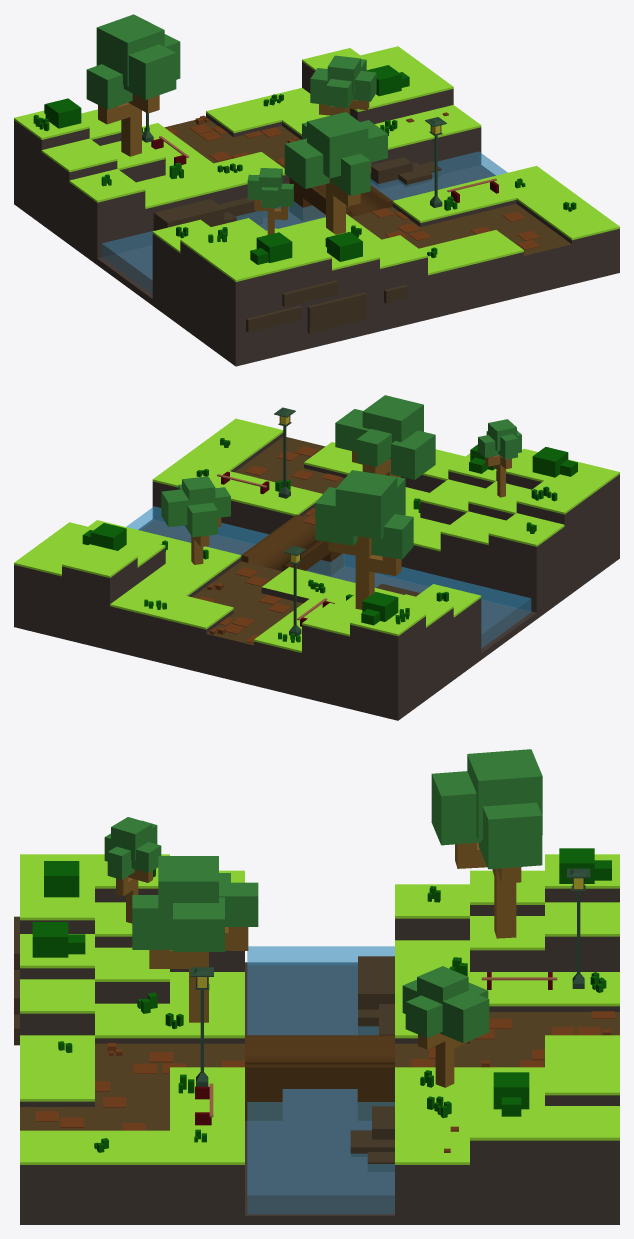
The model's file is park.glb.
3 renders of one model, top to bottom at view 1: azimuth 30°, elevation 25°; view 2: azimuth 150°, elevation 25°; view 3: azimuth 270°, elevation 25°, orthographic. The views are drawn at different scales.
Visible parts, largest first — view 1: Terrain, Water, Leaf.011, Leaf.001, Leaf.012, Bridge, Trunk.002, Cube.071, Leaf.005, Leaf.013, Cube.089, Leaf.002 (+18 smaller); view 2: Terrain, Water, Leaf.011, Bridge, Leaf.001, Trunk.002, Leaf.005, Leaf.013, Leaf.014, Leaf.004, Leaf.009, Leaf.010 (+10 smaller); view 3: Terrain, Water, Bridge, Leaf.011, Leaf.014, Leaf.001, Leaf.012, Leaf.003, Trunk.002, Trunk, Leaf.010, Cube.089 (+17 smaller).
Part boxes in pixels (x1=…): Terrain: x1=14, y1=46, x2=619, y2=366; Water: x1=102, y1=151, x2=507, y2=293; Leaf.011: x1=96, y1=14, x2=164, y2=86; Leaf.001: x1=307, y1=112, x2=368, y2=178; Leaf.012: x1=123, y1=44, x2=176, y2=99; Bridge: x1=289, y1=177, x2=392, y2=221; Trunk.002: x1=98, y1=94, x2=159, y2=156; Cube.071: x1=307, y1=292, x2=366, y2=333; Leaf.005: x1=284, y1=138, x2=329, y2=188; Leaf.013: x1=86, y1=64, x2=132, y2=109; Cube.089: x1=153, y1=199, x2=224, y2=230; Leaf.002: x1=332, y1=153, x2=370, y2=196; Terrain: x1=14, y1=418, x2=619, y2=720; Water: x1=126, y1=506, x2=531, y2=648; Leaf.011: x1=335, y1=470, x2=397, y2=539; Bridge: x1=241, y1=514, x2=344, y2=575; Leaf.001: x1=362, y1=395, x2=423, y2=458; Trunk.002: x1=328, y1=536, x2=401, y2=609; Leaf.005: x1=391, y1=430, x2=435, y2=479; Leaf.013: x1=371, y1=514, x2=413, y2=559; Leaf.014: x1=315, y1=487, x2=357, y2=545; Leaf.004: x1=356, y1=429, x2=391, y2=467; Leaf.009: x1=185, y1=502, x2=217, y2=537; Leaf.010: x1=161, y1=489, x2=194, y2=526; Terrain: x1=20, y1=854, x2=619, y2=1224; Water: x1=247, y1=946, x2=394, y2=1213; Bridge: x1=245, y1=1035, x2=394, y2=1120; Leaf.011: x1=467, y1=749, x2=542, y2=840; Leaf.014: x1=478, y1=802, x2=542, y2=869; Leaf.001: x1=158, y1=856, x2=218, y2=936; Leaf.012: x1=431, y1=771, x2=481, y2=845; Leaf.003: x1=173, y1=897, x2=224, y2=951; Trunk.002: x1=455, y1=842, x2=521, y2=938; Trunk: x1=149, y1=927, x2=248, y2=1022; Leaf.010: x1=439, y1=990, x2=489, y2=1043; Cube.089: x1=358, y1=956, x2=394, y2=1009.
Bounding box in the file's own units: 8 × 3.75 × 8.08.
